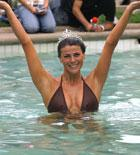human: (0, 1, 140, 116)
